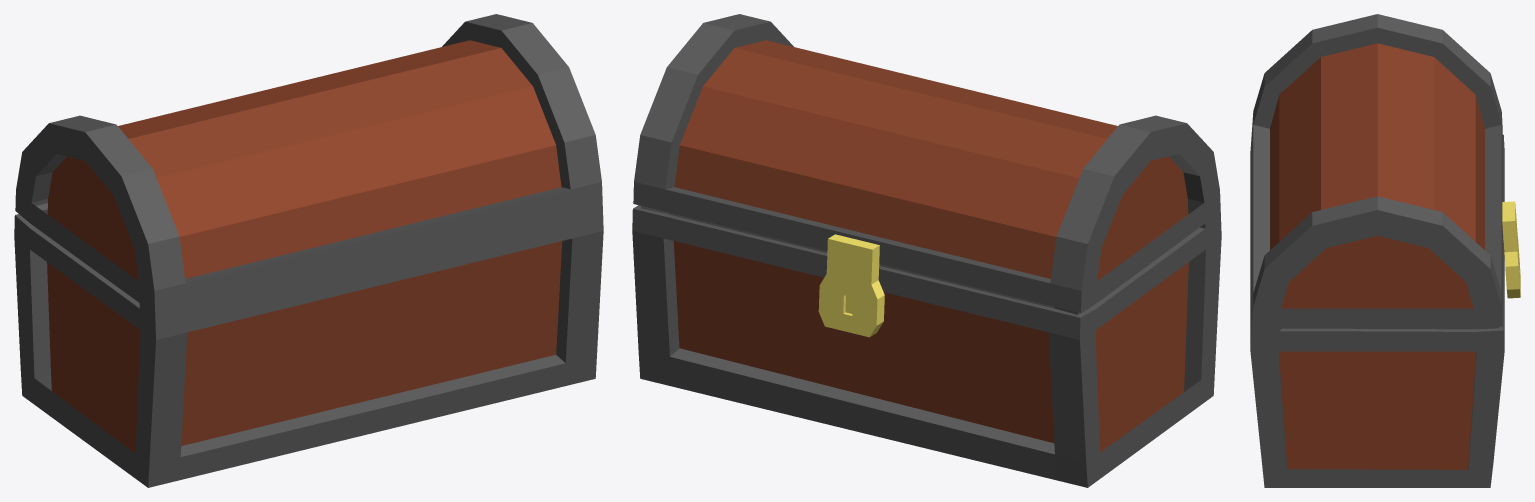
Rendered from chest2.glb.
The picture shows the model from 3 angles, left to right: view 1: azimuth 30°, elevation 25°; view 2: azimuth 150°, elevation 25°; view 3: azimuth 270°, elevation 25°; orthographic projection. The views are drawn at different scales.
Visible parts, largest first — view 1: Cylinder; view 2: Cylinder, Cylinder.001; view 3: Cylinder, Cylinder.001.
Boxes of the visible parts, bbox=[...] form: Cylinder: bbox=[14, 14, 603, 487]; Cylinder: bbox=[632, 14, 1221, 487]; Cylinder.001: bbox=[818, 234, 884, 337]; Cylinder: bbox=[1250, 14, 1504, 487]; Cylinder.001: bbox=[1502, 201, 1520, 298].
Size of the model in its own units: 3.55 by 2.35 by 2.07.
